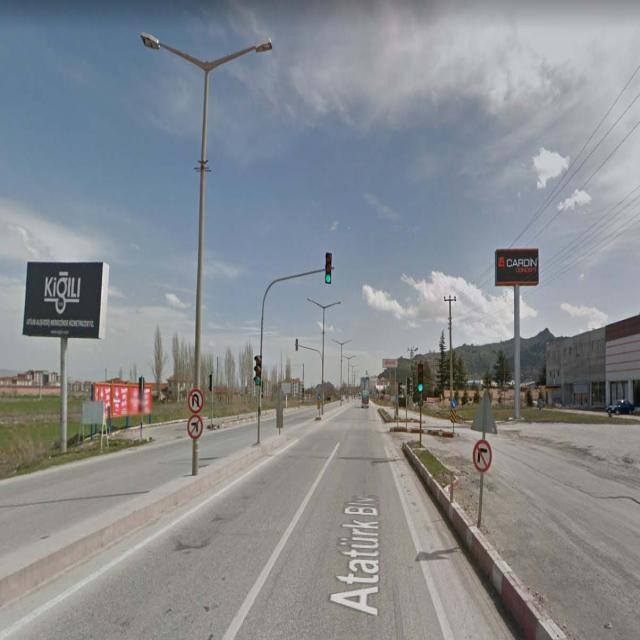sagadonulmez: (473, 442, 493, 473)
soladonulmez: (188, 414, 202, 439)
yesil: (254, 352, 264, 386), (417, 364, 424, 394), (326, 252, 332, 285)
